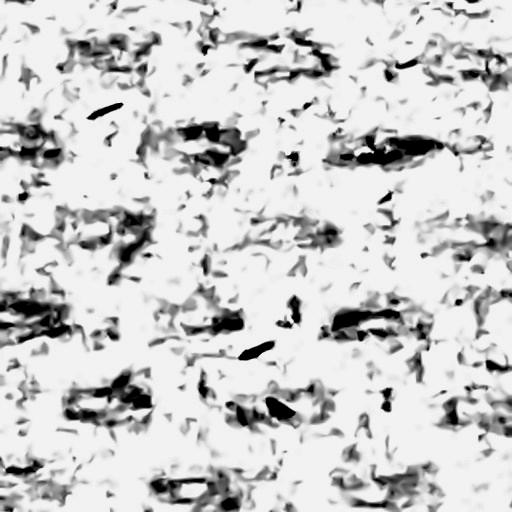egg: (266, 397, 293, 419), (239, 341, 273, 358), (87, 103, 121, 119), (358, 150, 396, 162), (226, 319, 240, 328)
